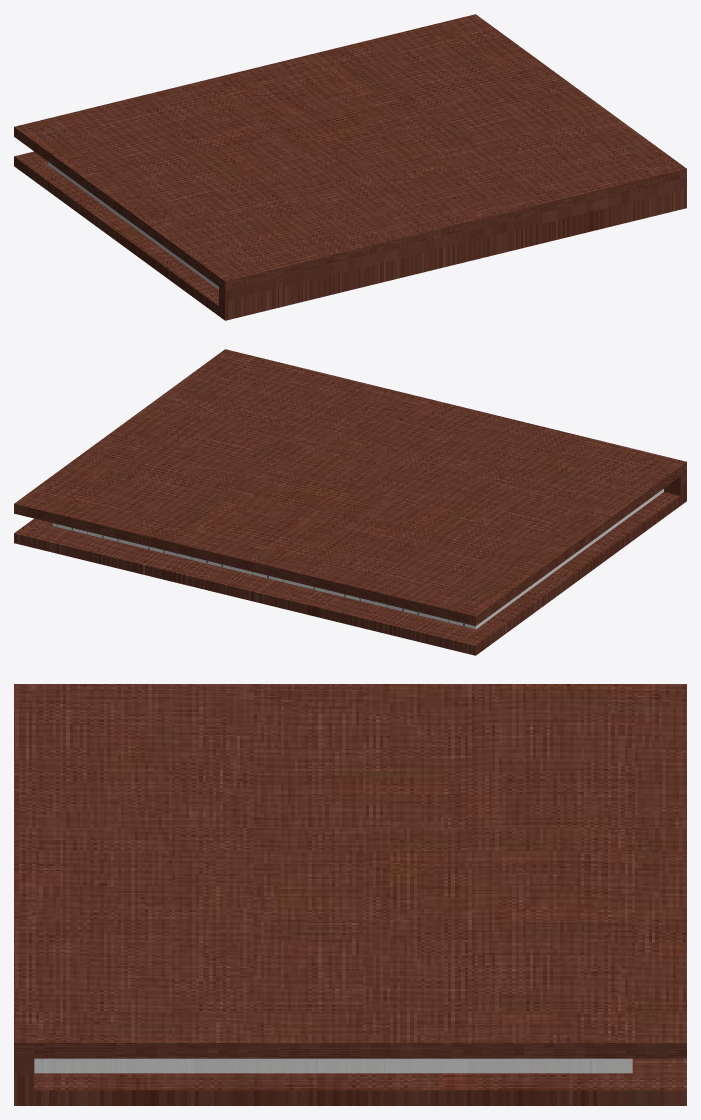
Rendered from book.glb.
3 views of the same model, one above another, from view 1: azimuth 30°, elevation 25°; view 2: azimuth 150°, elevation 25°; view 3: azimuth 270°, elevation 25° (orthographic). The views are drawn at different scales.
Parts seen in each view (by area): view 1: Cube.003, Cube.002; view 2: Cube.003, Cube.002; view 3: Cube.003, Cube.002.
Boxes of the visible parts, x1,y1,x2,y2 form: Cube.003: [14, 14, 686, 300]; Cube.002: [14, 151, 686, 320]; Cube.003: [14, 349, 686, 626]; Cube.002: [14, 482, 686, 655]; Cube.003: [14, 684, 686, 1074]; Cube.002: [14, 1058, 686, 1105].
Size of the model in its own units: 0.4 by 0.0326 by 0.3169.
2 materials, 2 textured.
